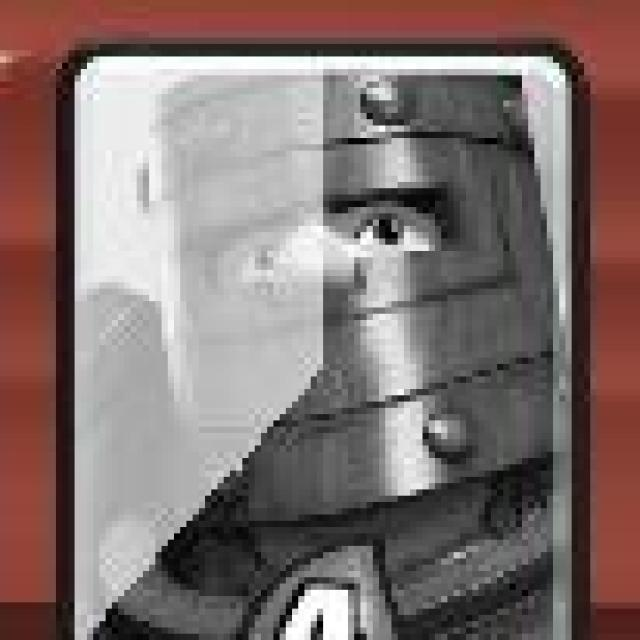Dark_Prince: (54, 38, 596, 634)
